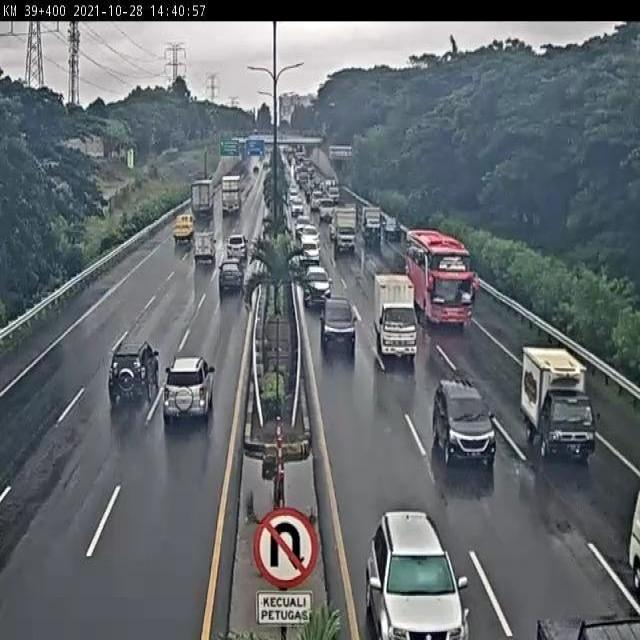bus-l-: (403, 228, 474, 328)
car: (431, 376, 497, 468), (161, 356, 213, 421), (108, 341, 161, 399), (320, 296, 358, 352), (303, 261, 331, 307), (215, 257, 244, 296)
truck-m-: (373, 273, 420, 360)
truck-s-: (520, 343, 596, 460)
